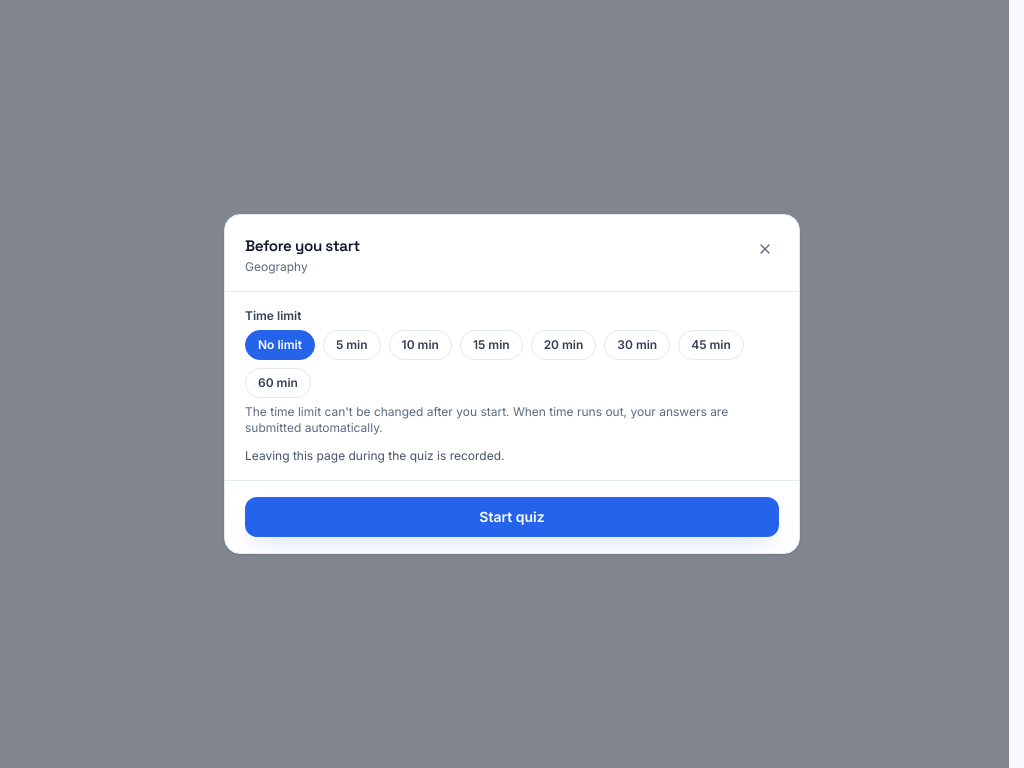
Test: QuizRunner — time limit picker › "No limit" starts with timeLimitMinutes null and shows no countdown
Click the button "Start quiz".
click(512, 517)  # box [245,497,779,537]
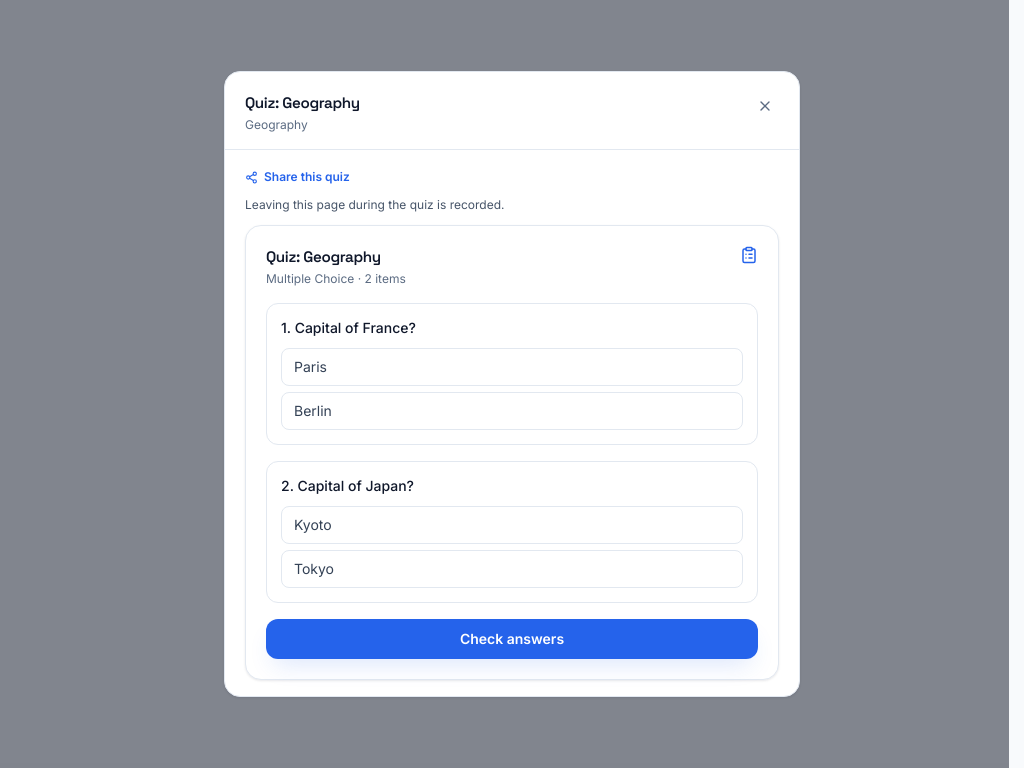
Now the text "1. Capital of France?" is shown, box [281,319,416,336]
Now the text "Leaving this page during the quiz is recorded." is shown, box [245,197,504,212]
